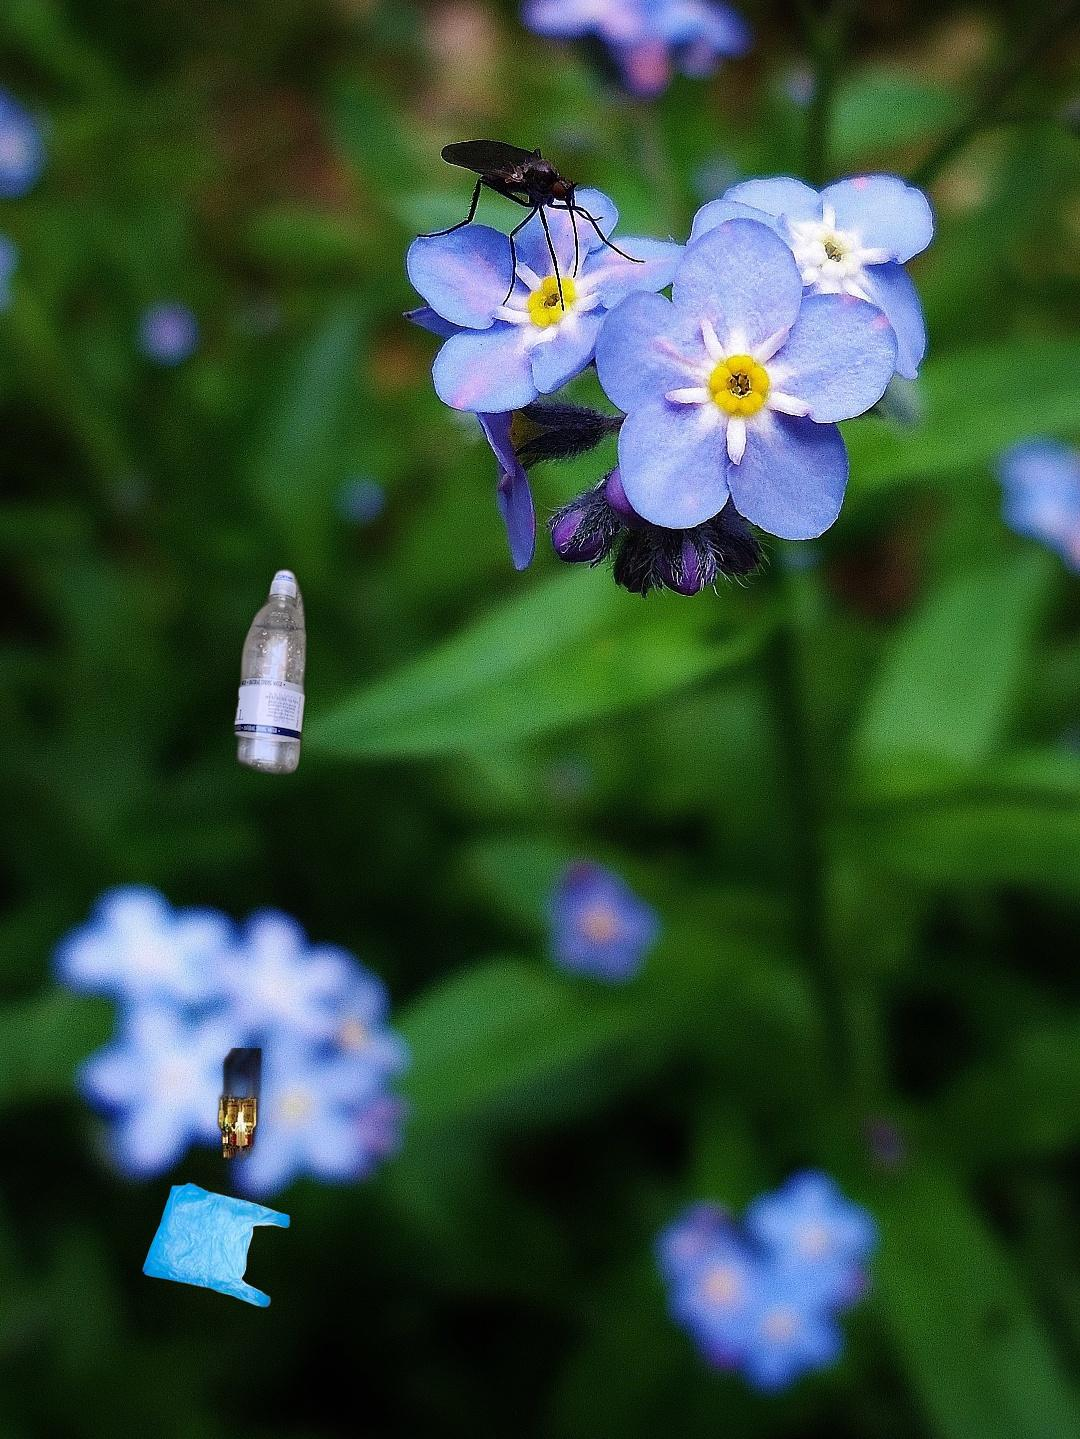plastic-bag: (141, 1048, 292, 1311)
plastic-bottles: (228, 562, 312, 782)
